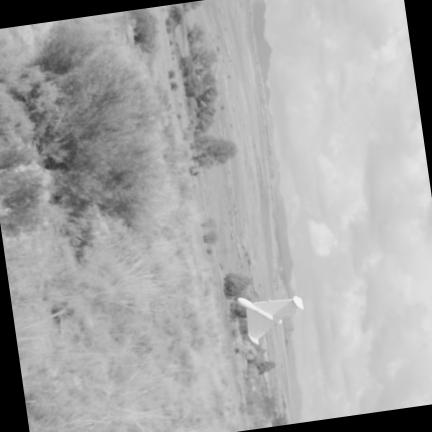Shahed: (237, 296, 301, 343)
